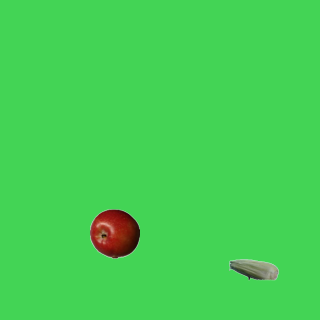Apple Braeburn: (89, 208, 139, 258)
Corn Husk: (228, 244, 278, 294)
